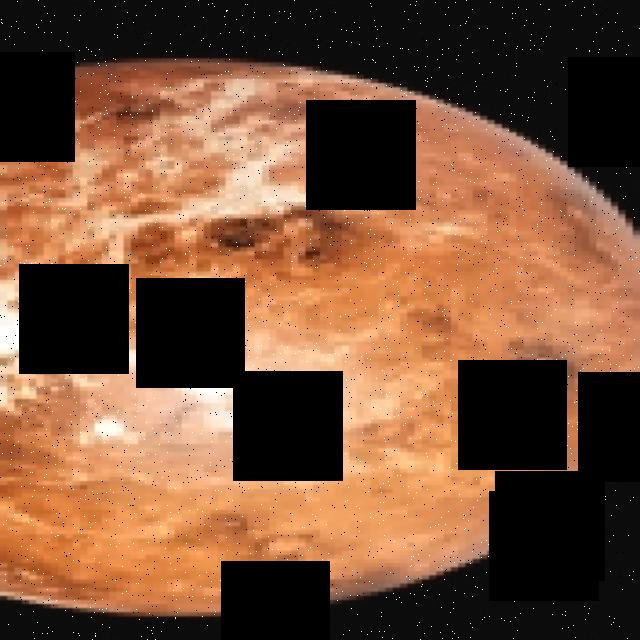Venus: (0, 57, 640, 624)
